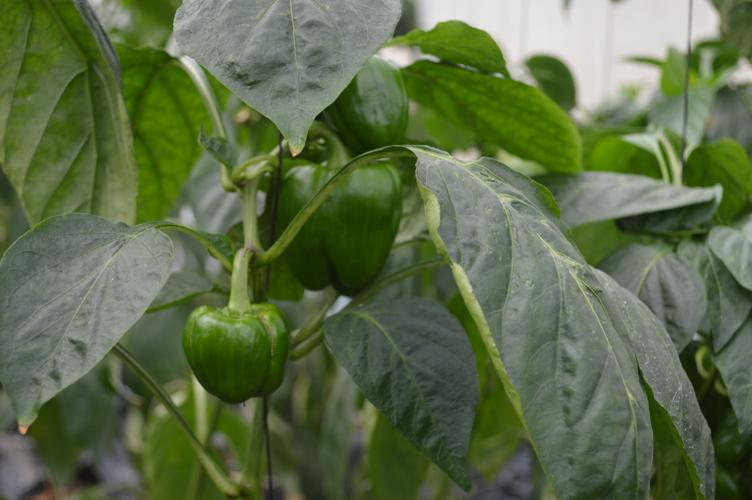BellPepper: (279, 161, 400, 294), (176, 306, 287, 402), (321, 57, 413, 151)
